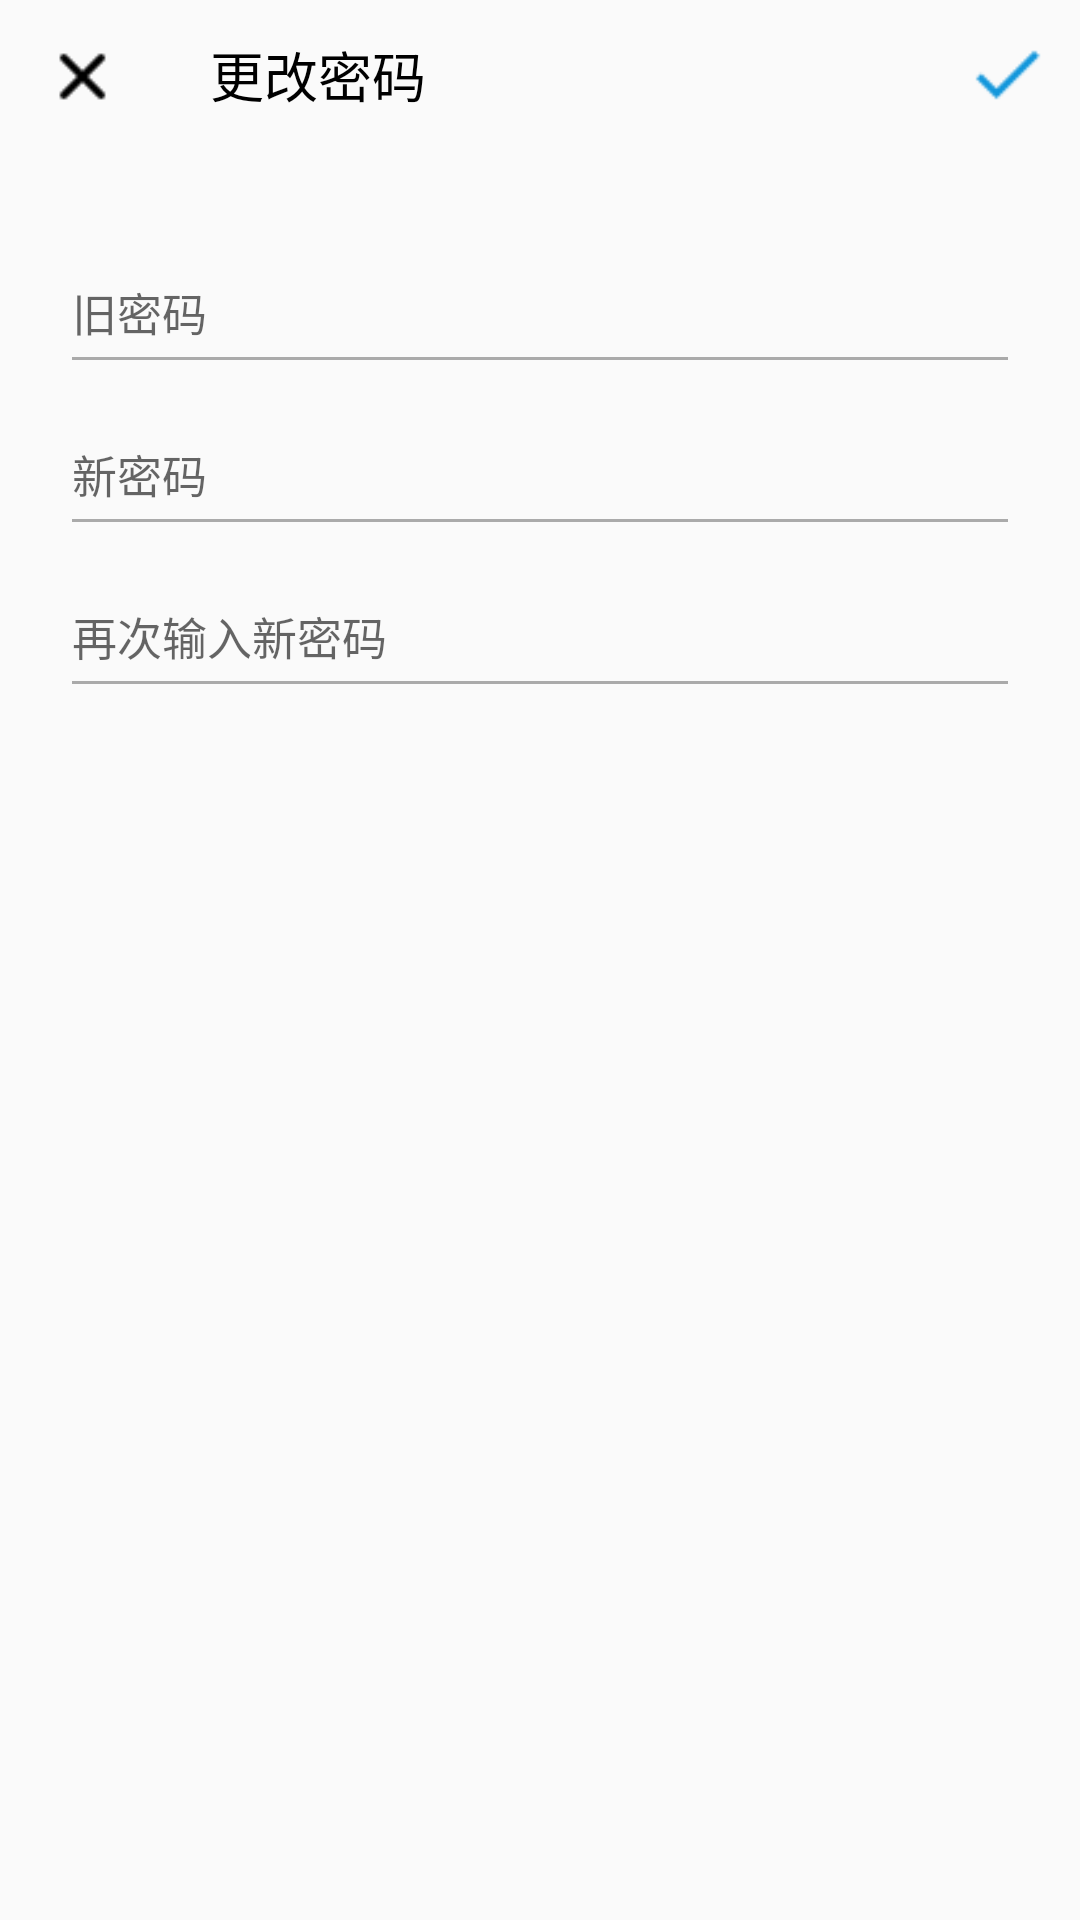

Point at icon controls on the screen. Image size 1080×1920, points as (x,y).
cancel: (82,76)
finish: (1008,75)
